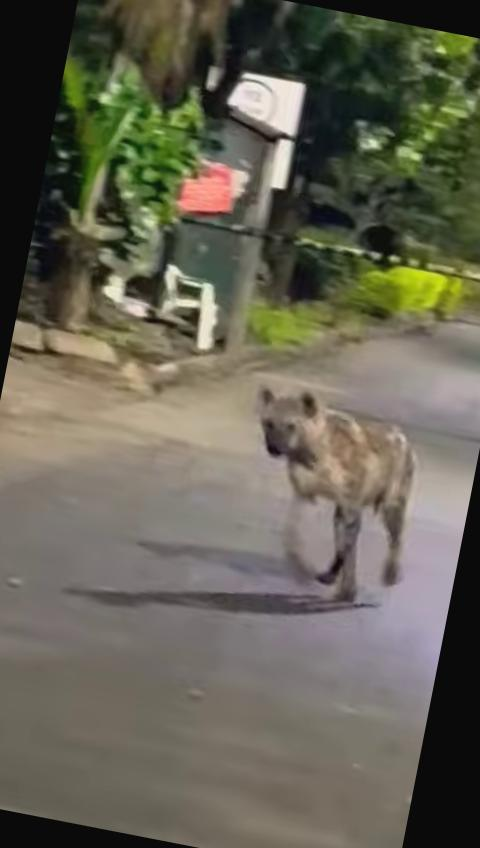hyenas: (154, 351, 480, 779)
